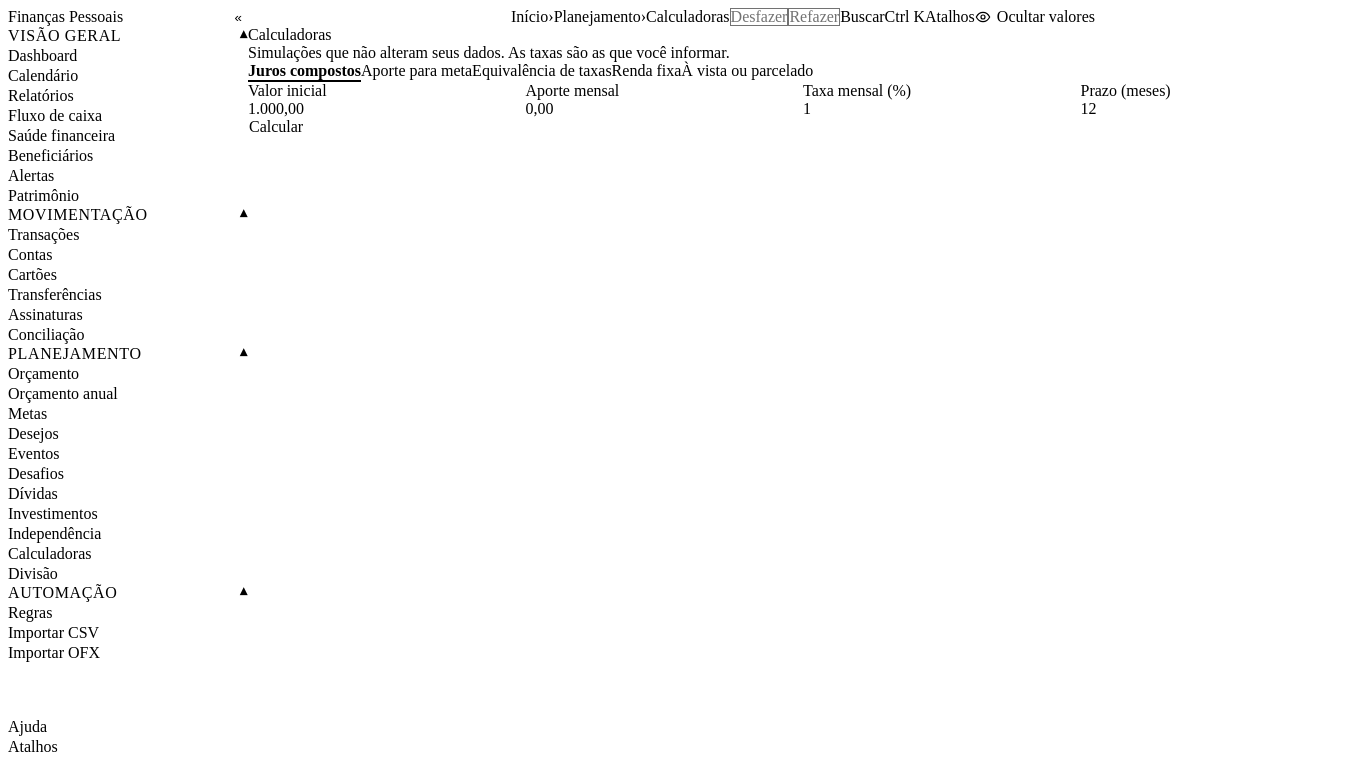
Test case: calculadoras: tela › critérios 2, 10, 11 e 12: calcula, anuncia, mostra gráfico e tabela, sem gravar nada
Click the button "Calcular": [276, 127] box [248, 118, 304, 136]
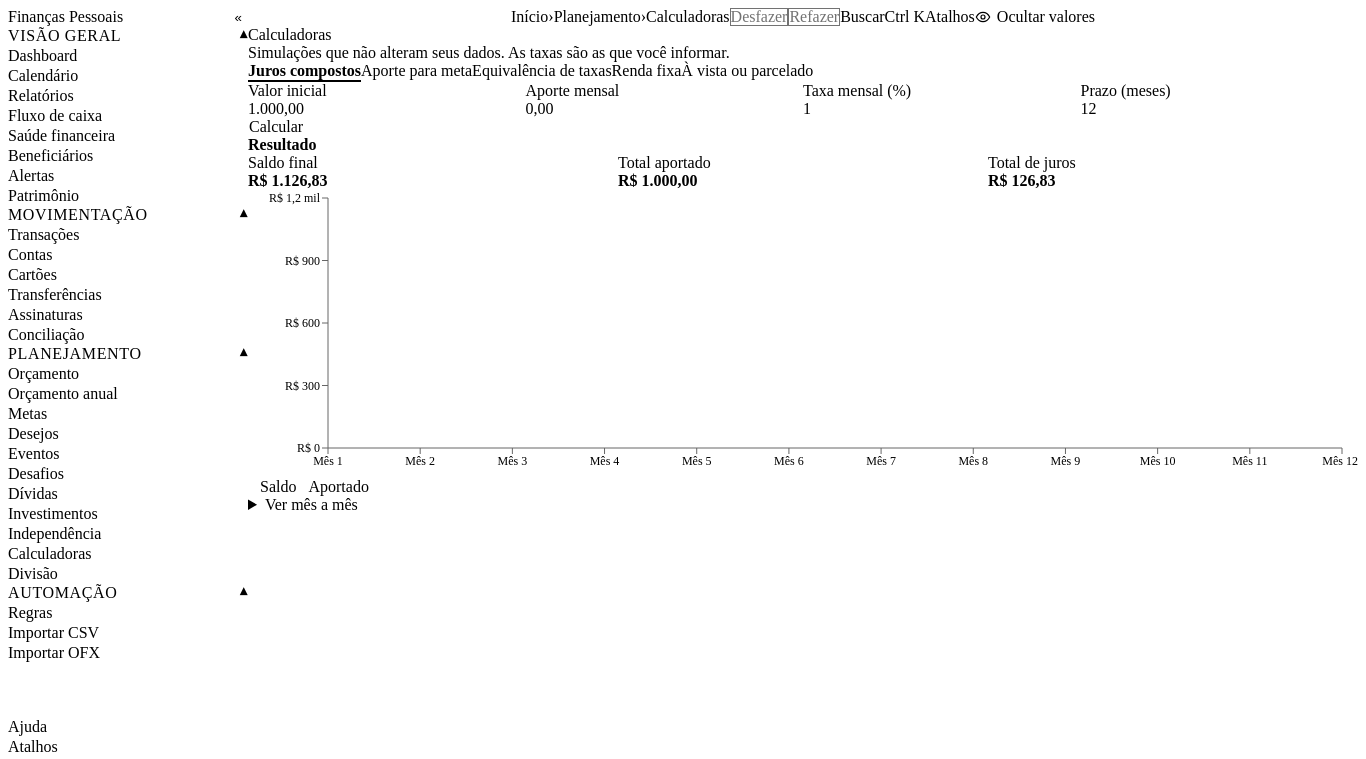
Check: the text "R$ 1.126,83" is shown, box [248, 172, 328, 189]
Check: the picture named "Gráfico da evolução do saldo" is shown, box [248, 190, 1358, 478]
